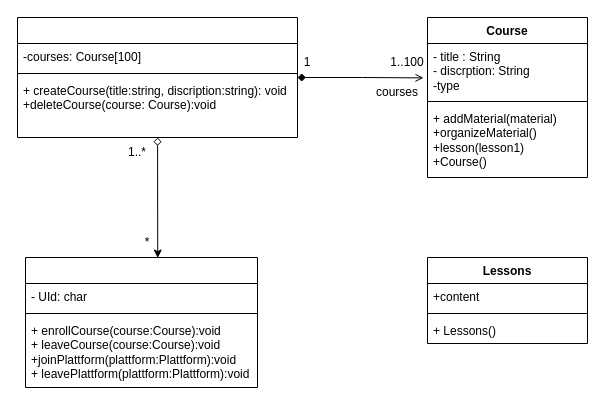
This 605x408 diagram has some shape labels left out. The box of each missing label's shape, as (x1, y1, x2, y2) in pixels:
Plattform: (16, 16, 298, 138)
User: (24, 256, 258, 388)
